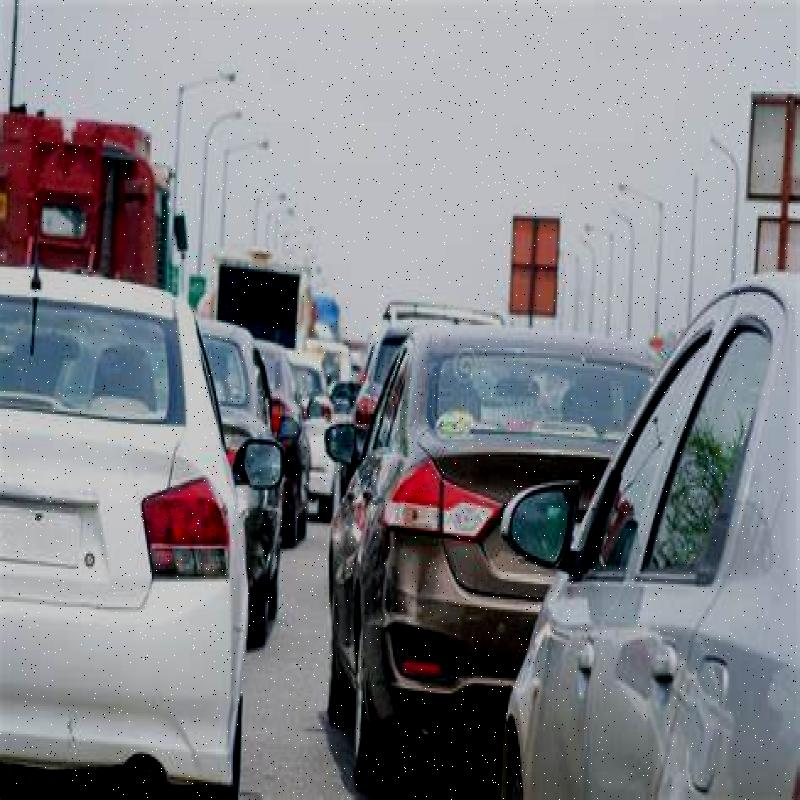car: (320, 313, 674, 744), (0, 236, 260, 800)
